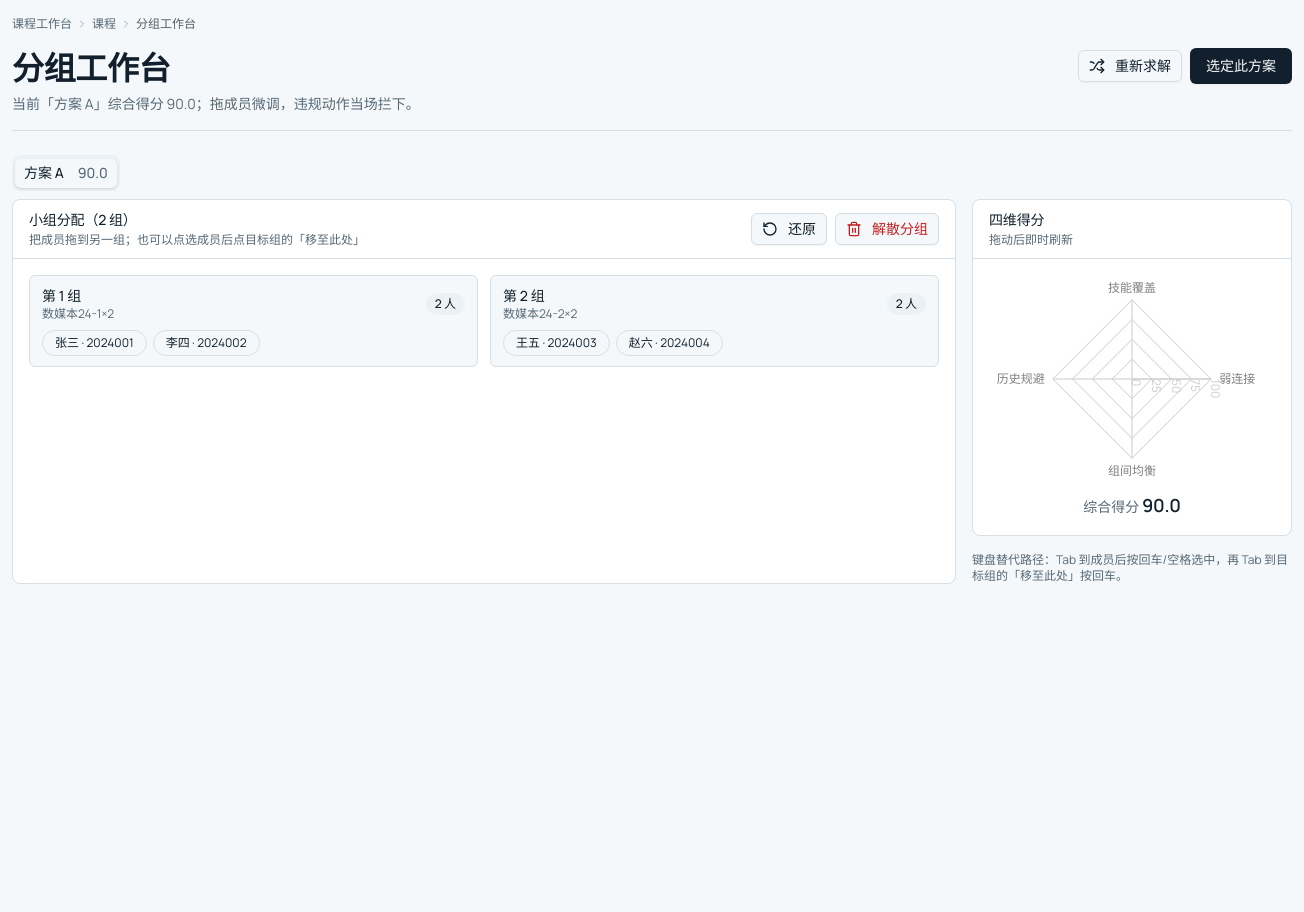
Test: 分组工作台：移动失败必须回滚且说话 › 预演成功但落库失败时：面板不显示预演分数，并明确「移动未落库」
Expected: the tab "方案 A 90.0" is shown, x1=15 y1=158 x2=117 y2=188
Click the button "李四 · 2024002": coordinates (206, 343) x1=153 y1=330 x2=260 y2=356
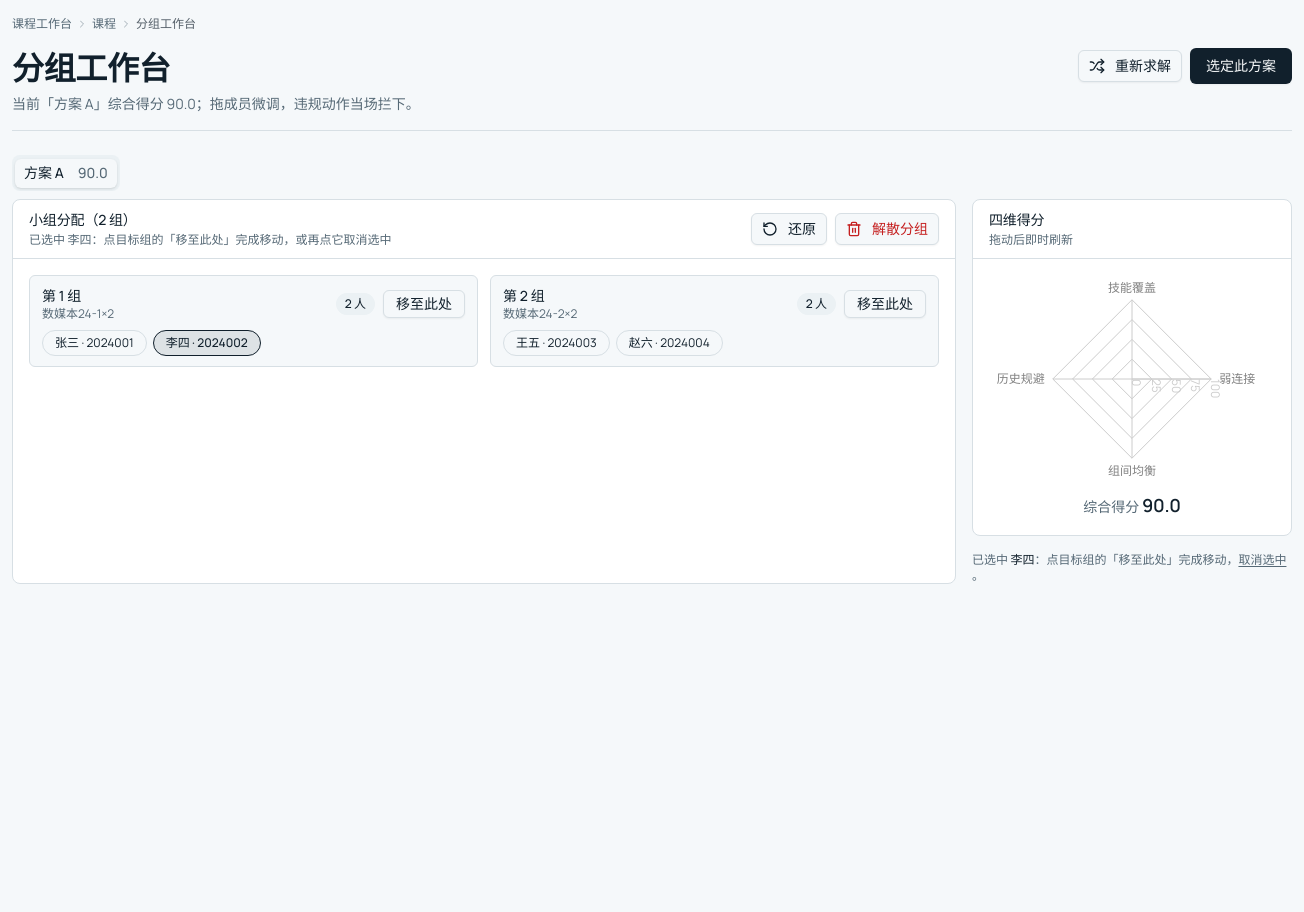
Click the button with aria-label "把 李四 移到第 2 组": coordinates (885, 304) x1=844 y1=290 x2=926 y2=318
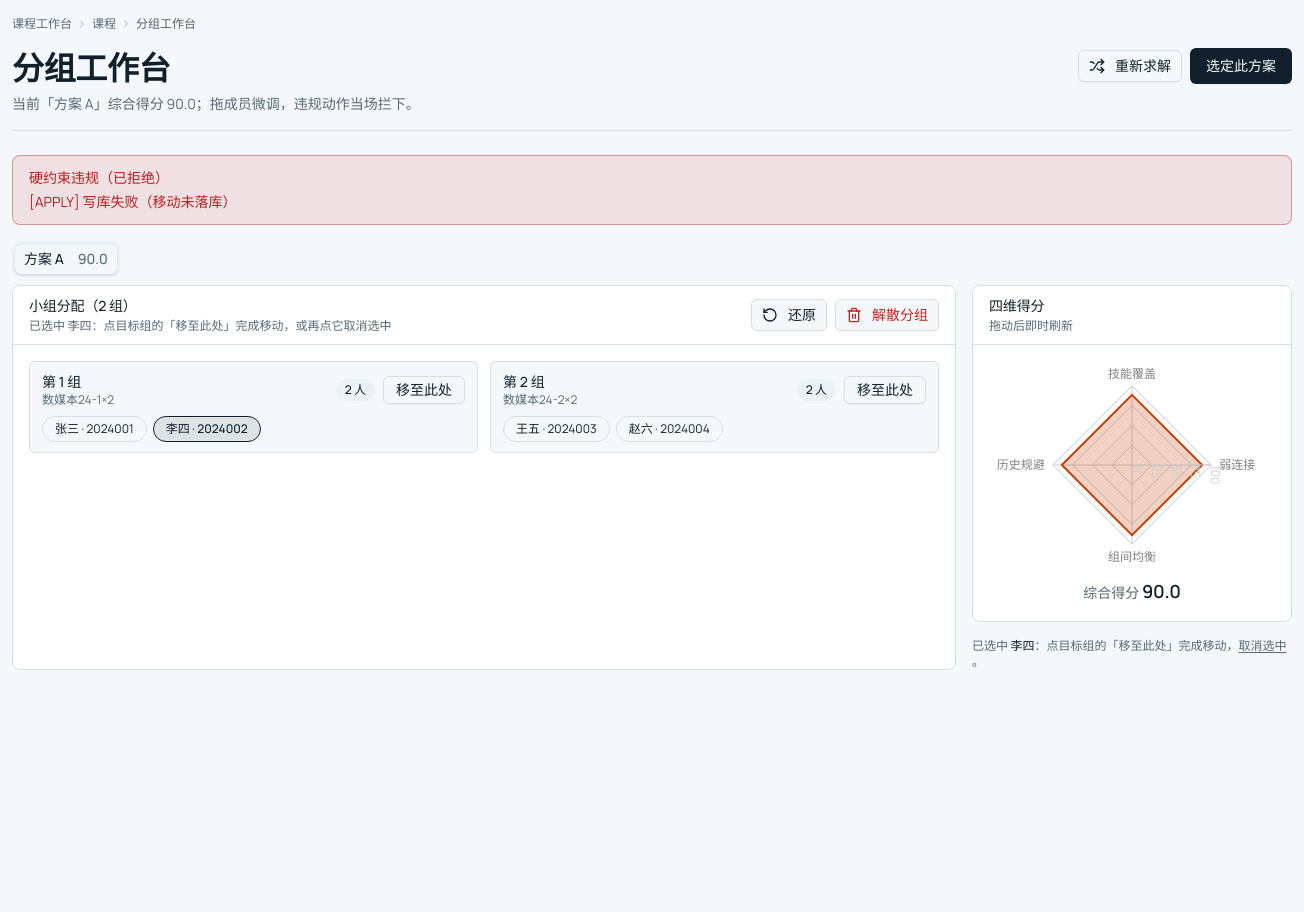
Expected: the text "当前「方案 A」综合得分 90.0；拖成员微调，违规动作当场拦下。" is shown, x1=12 y1=94 x2=420 y2=114
Now the list item shows "写库失败（移动未落库）", box x1=82 y1=192 x2=236 y2=211
